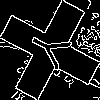Y: (25, 25, 81, 76)
